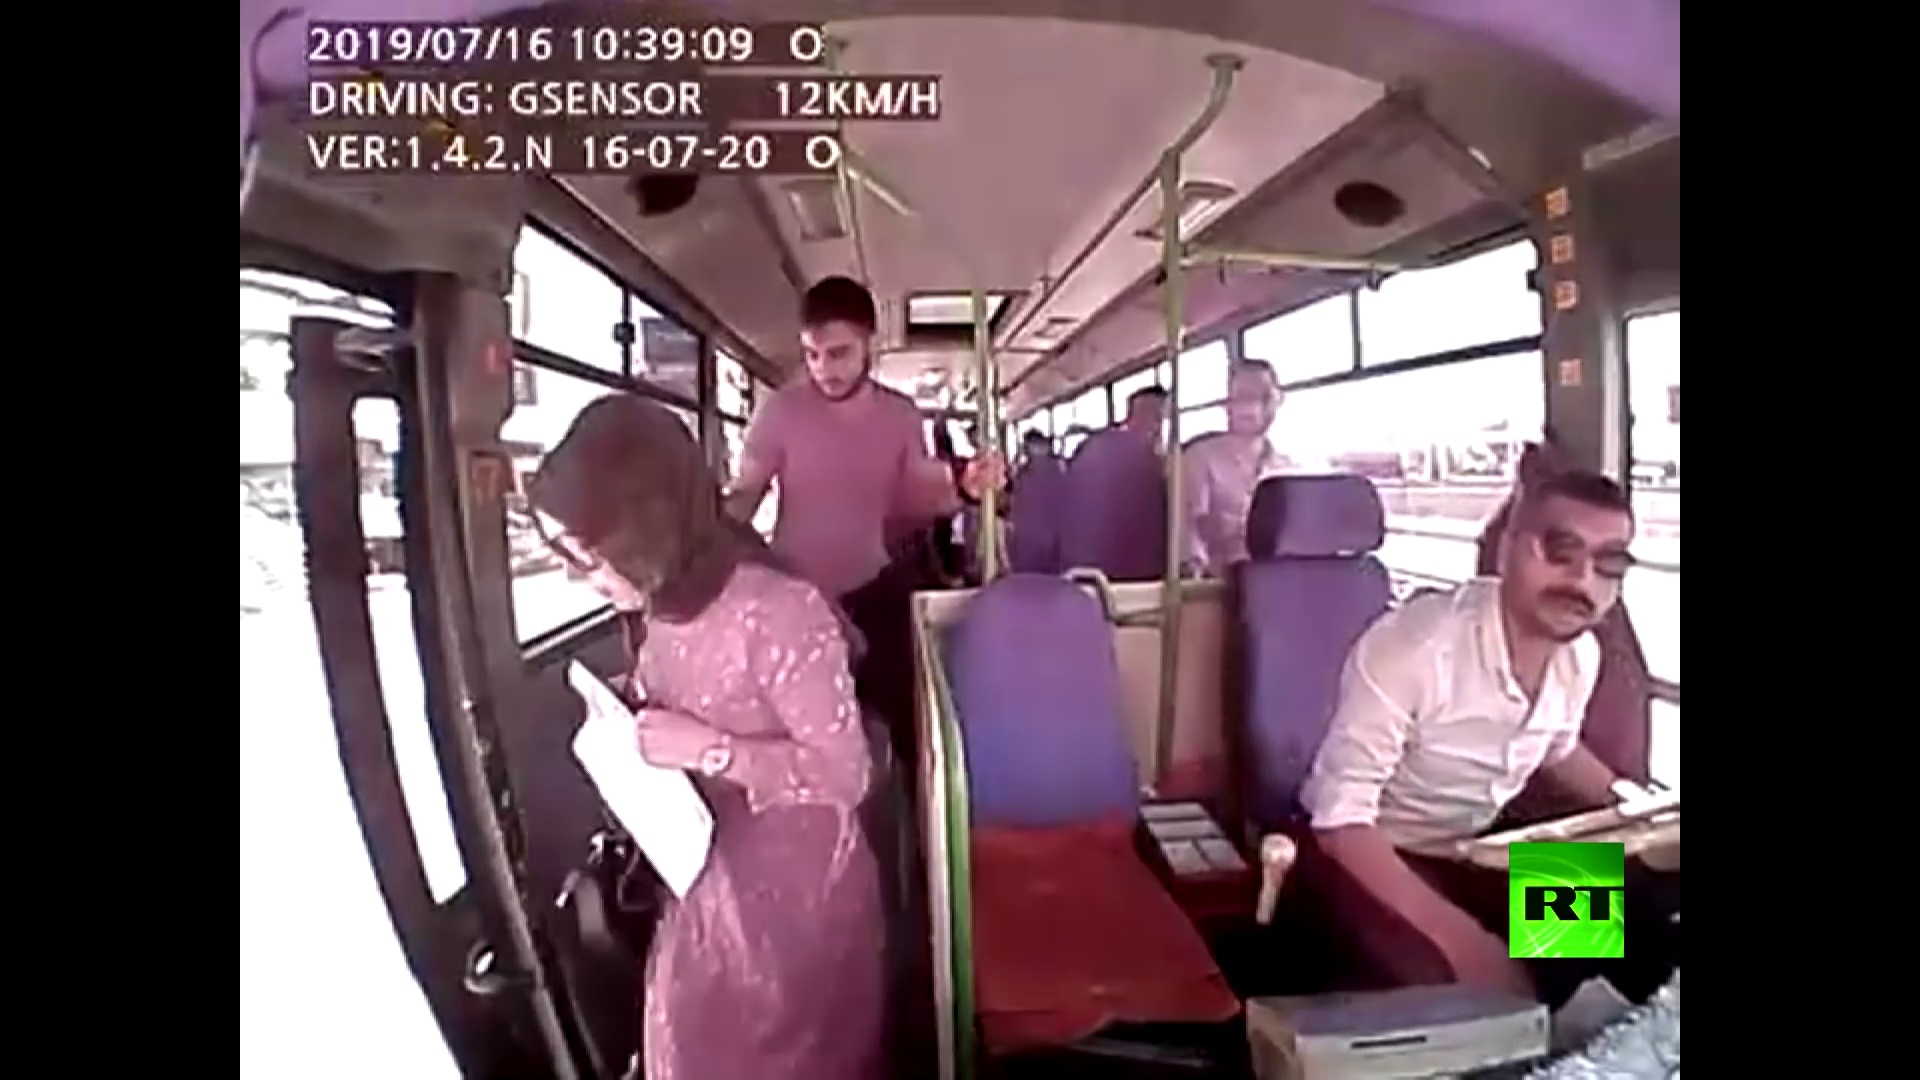face: (544, 473, 665, 609), (1518, 502, 1624, 628), (800, 324, 863, 391), (1226, 369, 1279, 432)
